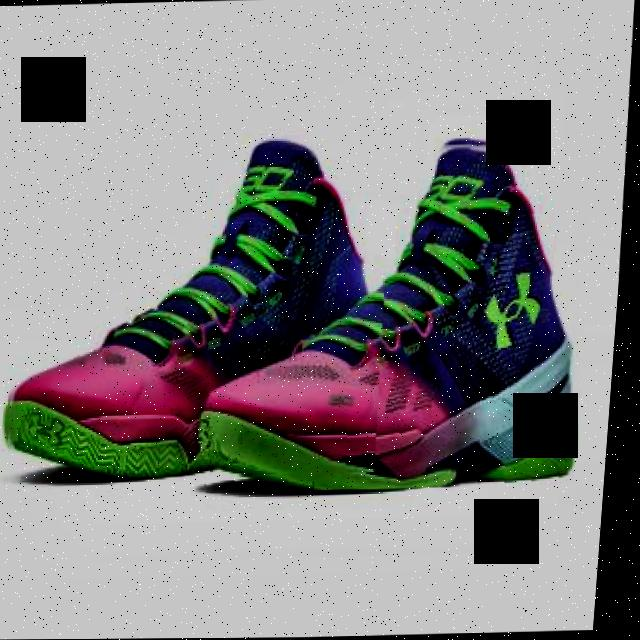shoe: (196, 132, 603, 494), (3, 132, 401, 480)
